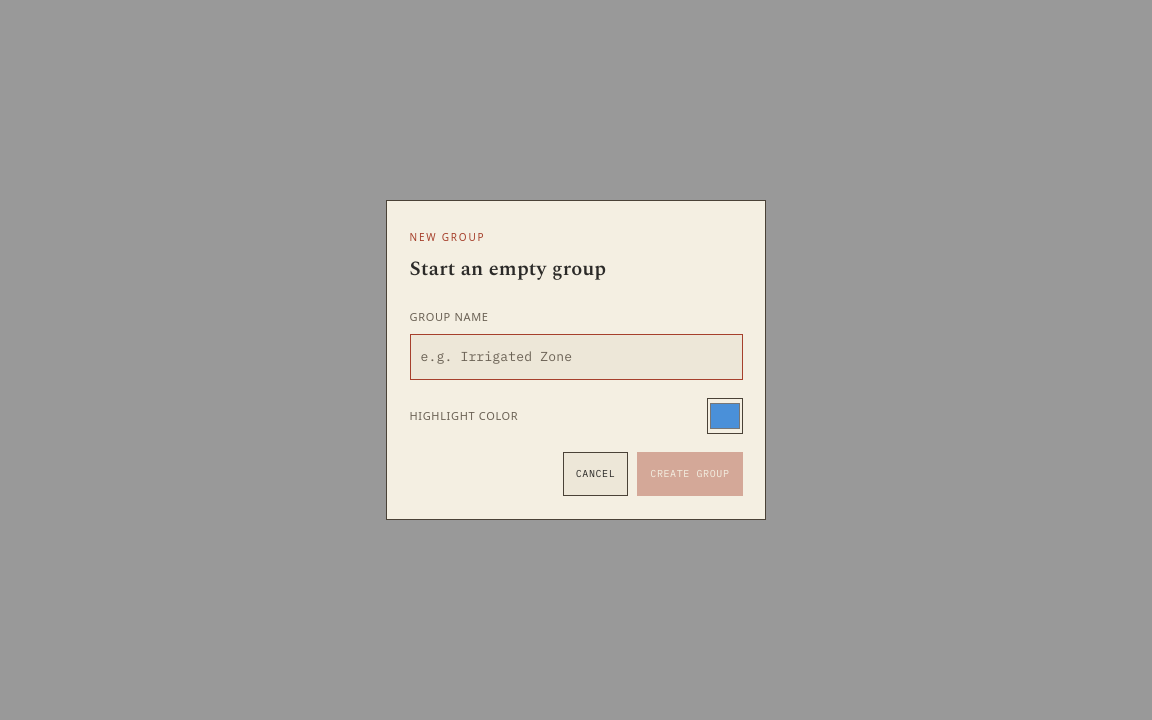
Test: NewGroupModal › disables "Create group" until a name is entered
Check: the button "Create group" is disabled, box [637,452,742,496]
Type "Irrigated Zone" into the field with placeholder "e.g. Irrigated Zone".
click(576, 357); type("Irrigated Zone")  # box [410,334,742,380]
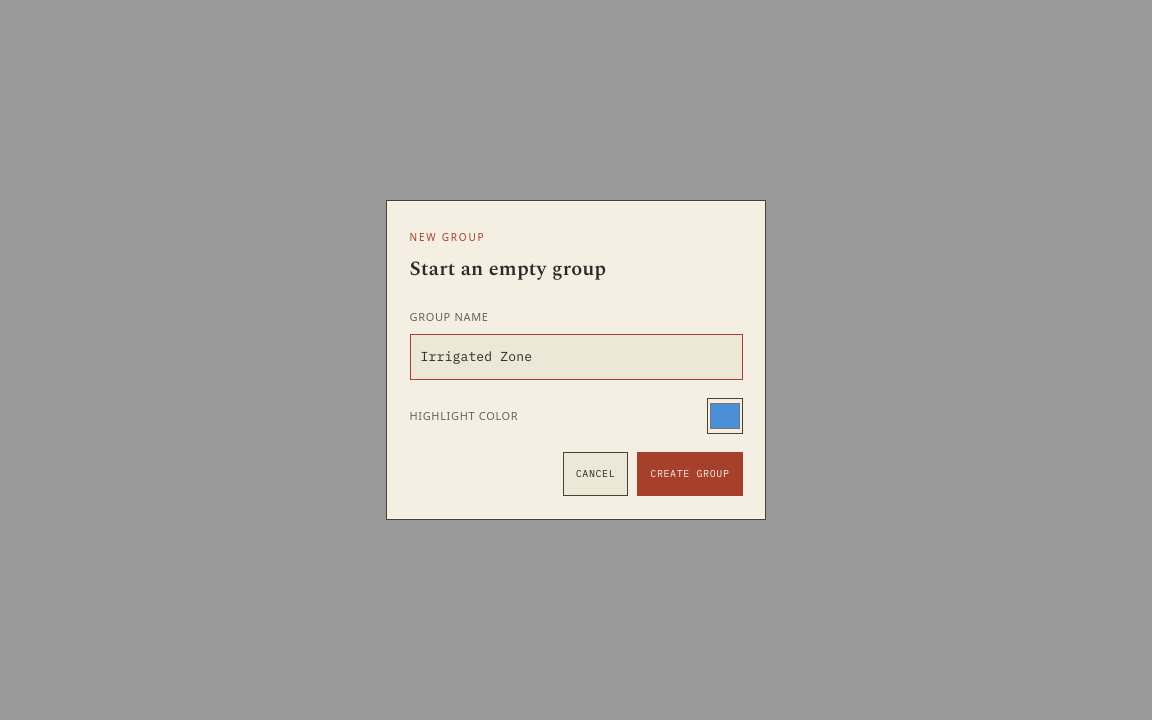
Check: the button "Create group" is enabled, box [637,452,742,496]
